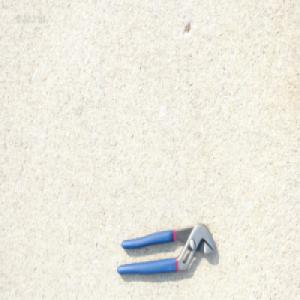Pliers: (115, 220, 216, 275)
